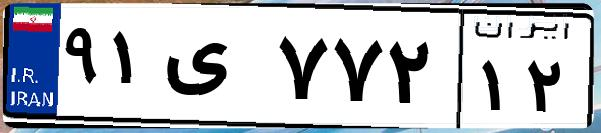1: (475, 38, 525, 113), (110, 28, 158, 98)
2: (385, 28, 445, 110), (525, 38, 570, 115)
7: (270, 28, 330, 110), (330, 28, 385, 110)
9: (57, 26, 110, 100)
ی: (158, 20, 270, 120)
